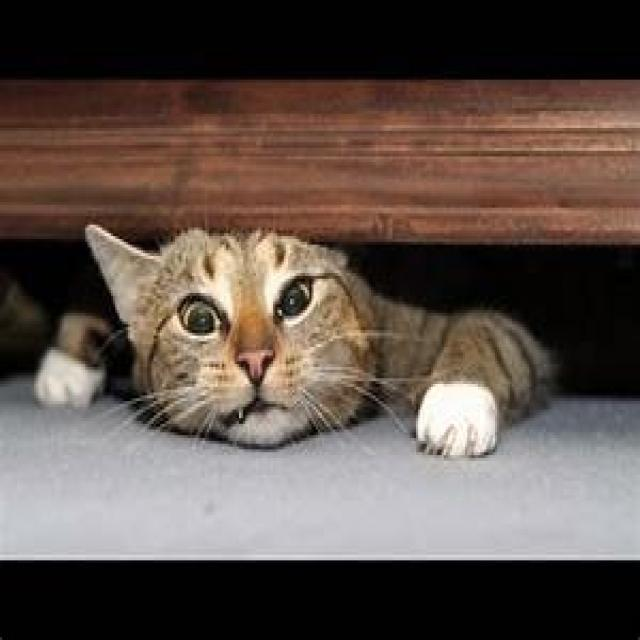KEDI: (34, 223, 557, 457)
